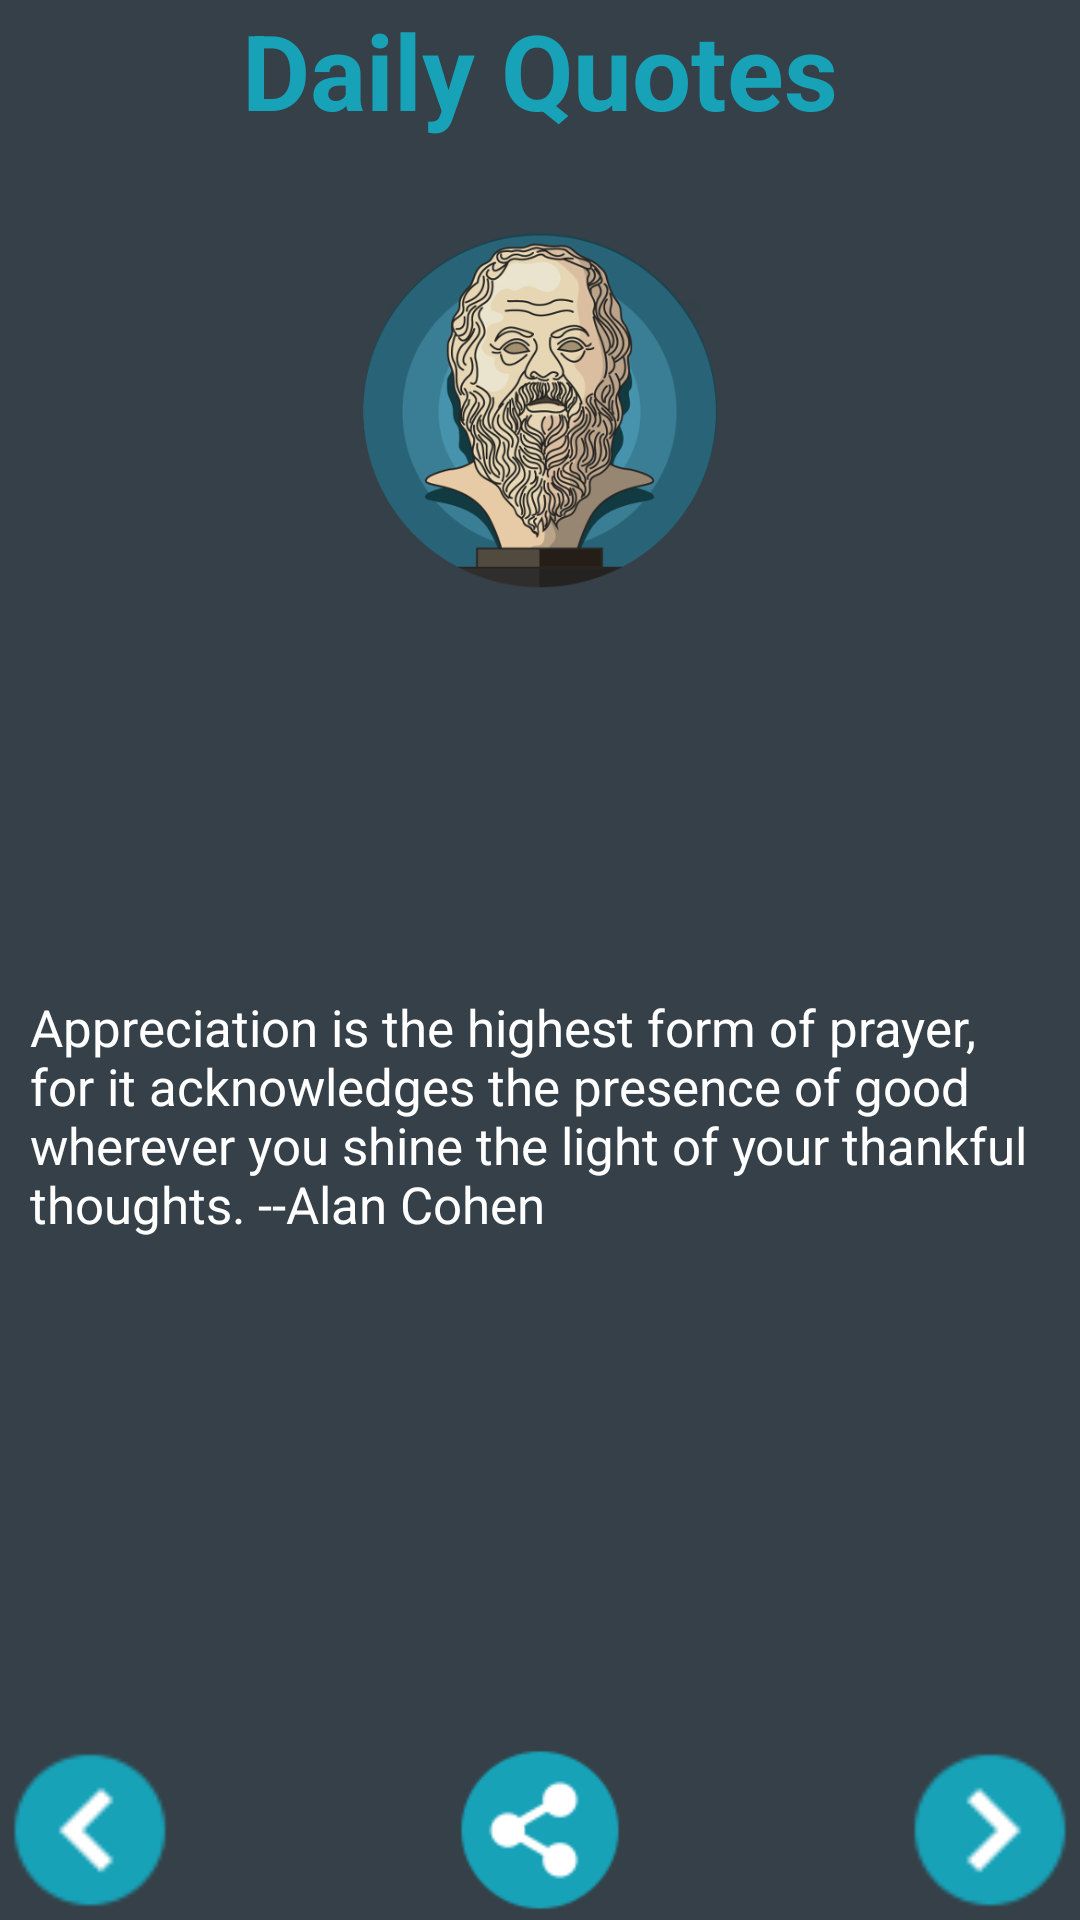

Icons on this 1080x1920 Android screen, each with its box as [x1=x1, y1=y1, x2=x2, y2=y2]:
back: [x1=14, y1=1754, x2=166, y2=1906]
next: [x1=914, y1=1754, x2=1066, y2=1906]
share: [x1=461, y1=1751, x2=619, y2=1909]
